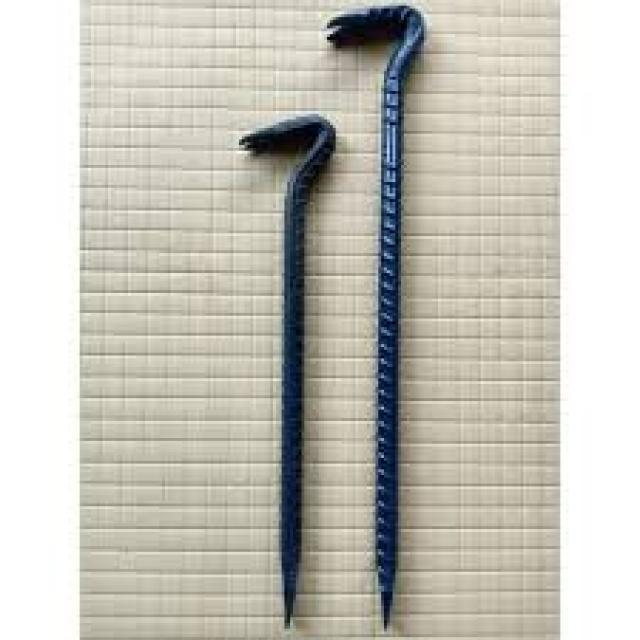Linggis: (314, 5, 462, 640), (230, 110, 346, 640)
